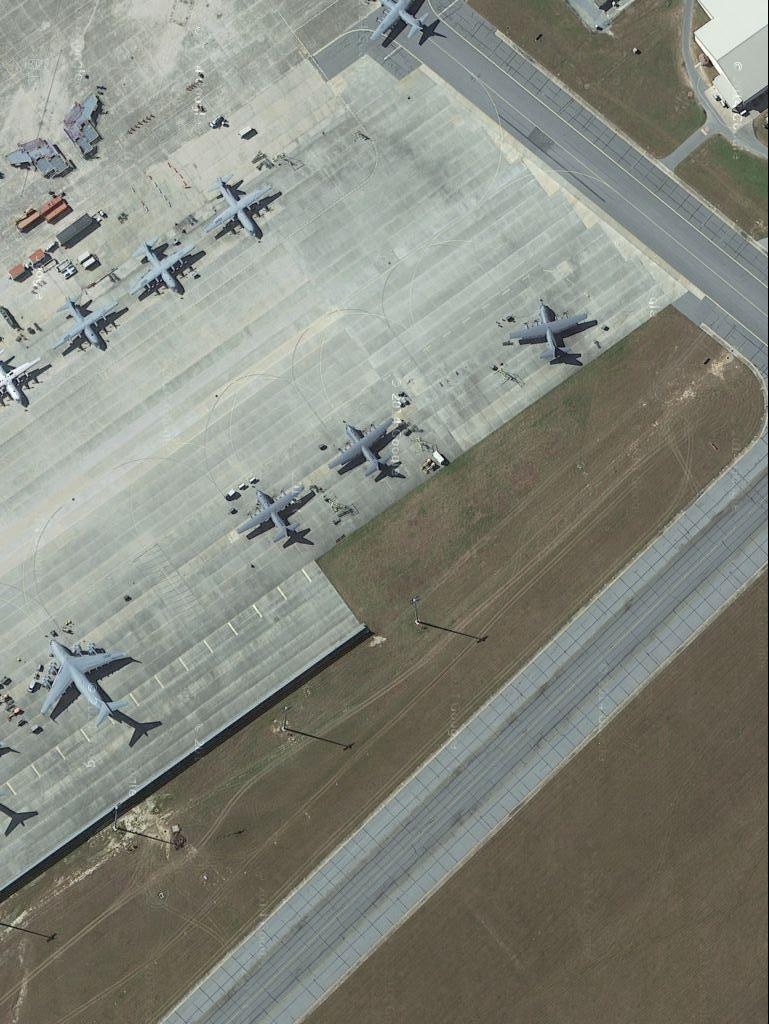C-130: (511, 295, 593, 367), (324, 411, 399, 481), (235, 480, 311, 546), (204, 175, 278, 242), (126, 234, 199, 298), (48, 293, 120, 357)
C-17: (34, 637, 140, 728)
